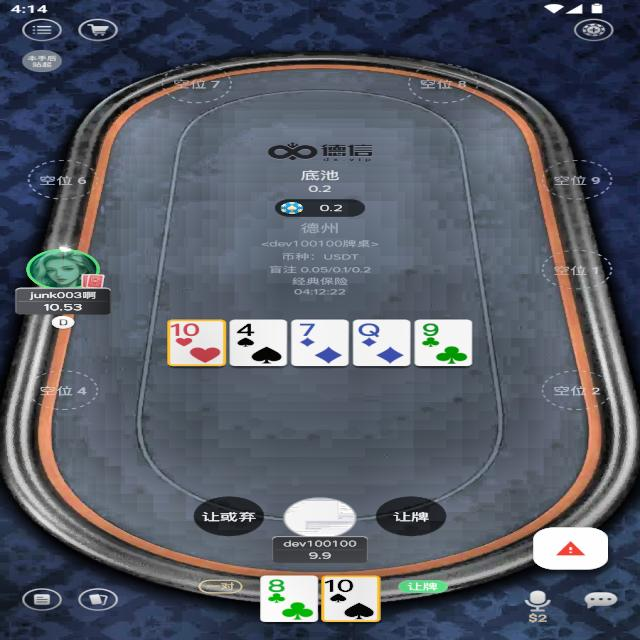10h: (170, 323, 202, 337)
10s: (325, 578, 356, 594)
4s: (236, 322, 256, 337)
7f: (294, 320, 318, 338)
8m: (267, 578, 287, 593)
9m: (422, 322, 441, 336)
Qf: (357, 320, 382, 338)
